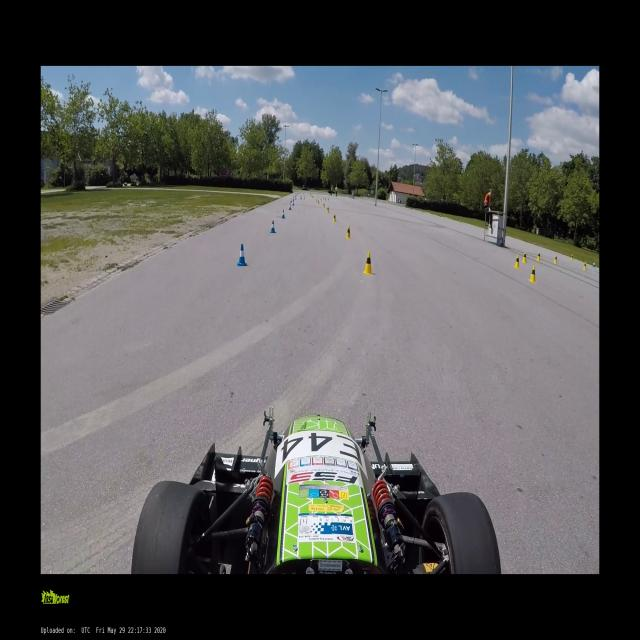blue_cone: (237, 244, 247, 266), (270, 221, 275, 234), (281, 210, 285, 219), (591, 262, 595, 268)
yellow_cone: (363, 252, 373, 275), (529, 266, 537, 284), (514, 254, 520, 268), (346, 225, 352, 239), (536, 250, 541, 262), (522, 252, 527, 263), (332, 213, 337, 223), (553, 255, 557, 265), (582, 262, 586, 271), (326, 206, 329, 214), (570, 254, 573, 261), (323, 203, 325, 208)
